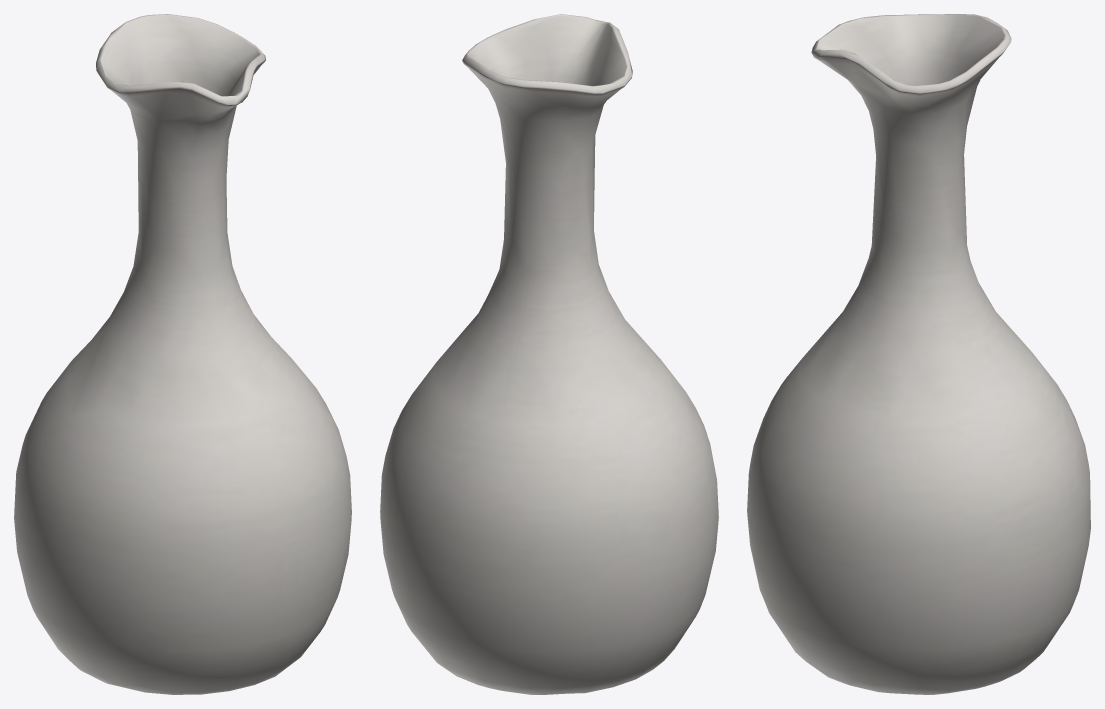
The model's file is ceramic_vase_01.glb.
3 views of the same model, side by side, from view 1: azimuth 30°, elevation 25°; view 2: azimuth 150°, elevation 25°; view 3: azimuth 270°, elevation 25° (orthographic).
Parts seen in each view (by area): view 1: ceramic_vase_01; view 2: ceramic_vase_01; view 3: ceramic_vase_01.
Boxes of the visible parts, bbox=[...] form: ceramic_vase_01: bbox=[14, 14, 351, 694]; ceramic_vase_01: bbox=[380, 14, 718, 694]; ceramic_vase_01: bbox=[747, 14, 1090, 694].
Bounding box in the file's own units: 0.2036 × 0.4003 × 0.2031.
Materials: 1 (1 with a texture image).
